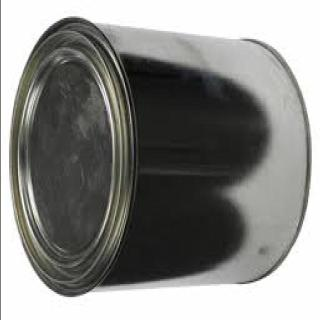Anorganik: (2, 29, 308, 300)
